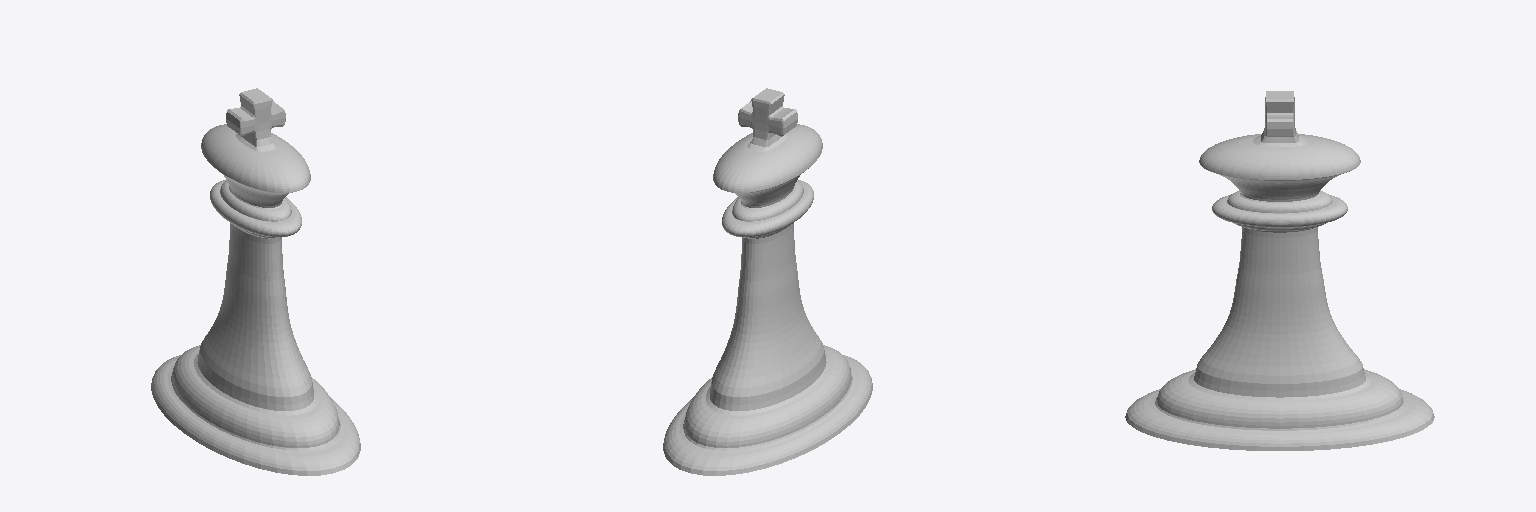
Rendered from finalking.obj.
3 renders of one model, left to right at view 1: azimuth 30°, elevation 25°; view 2: azimuth 150°, elevation 25°; view 3: azimuth 270°, elevation 25°, orthographic.
Visible parts, largest first — view 1: white_king_Mesh.011; view 2: white_king_Mesh.011; view 3: white_king_Mesh.011.
Part boxes in pixels (x1,y1,x2,y2): white_king_Mesh.011: (151, 88, 360, 475); white_king_Mesh.011: (663, 88, 872, 475); white_king_Mesh.011: (1125, 91, 1434, 450).
Bounding box in the file's own units: 0.4334 × 0.9381 × 0.8188.